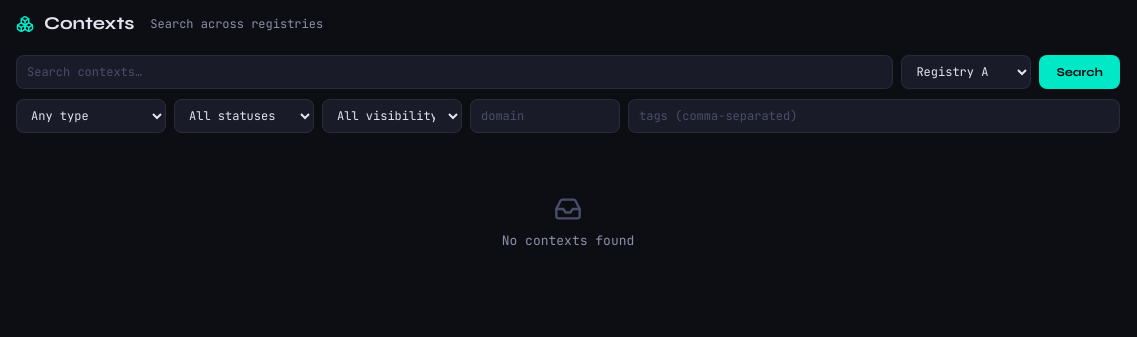
it: /contexts — a MERGED response is exempt from the flat empty state › covers the federated search too, not just the revocation facet
Expected: the text "No contexts found" is shown, [502,231,634,250]
Select "Both" in the dropdown named "Search registry" at (966, 72), box [901,55,1031,89]
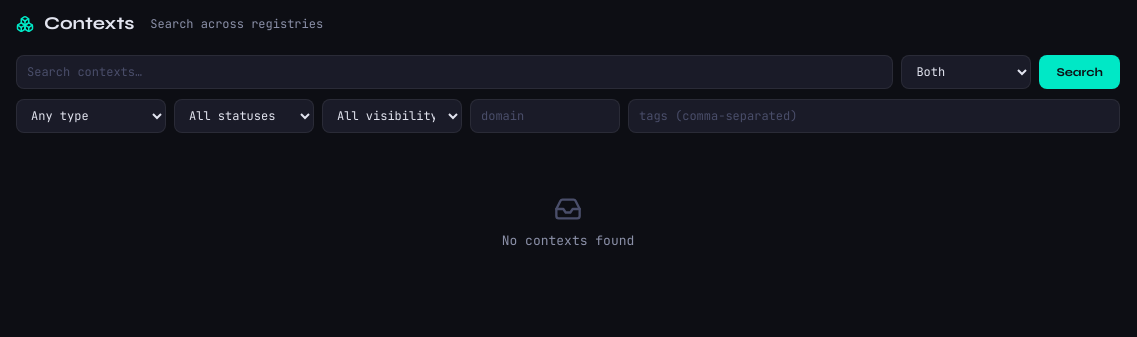
Click the button "Search".
click(1080, 72)  # box [1039,55,1120,89]
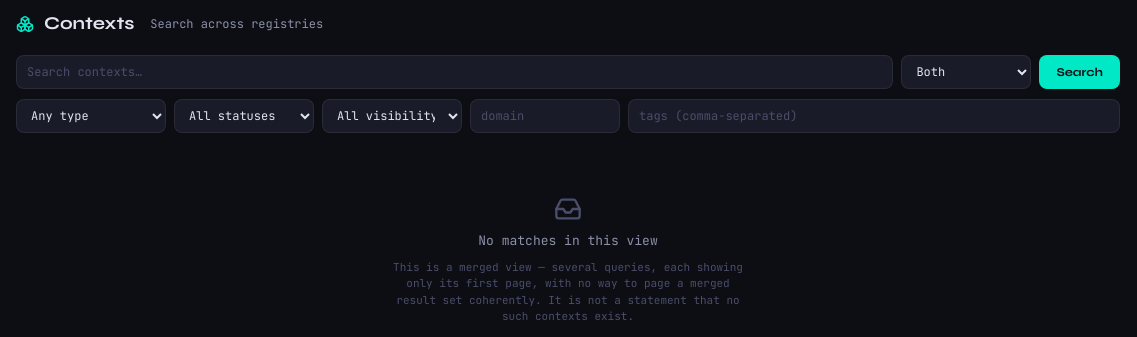
Now the text "No matches in this view" is shown, box [478,231,658,250]
Now the text "No contexts found" is gone
